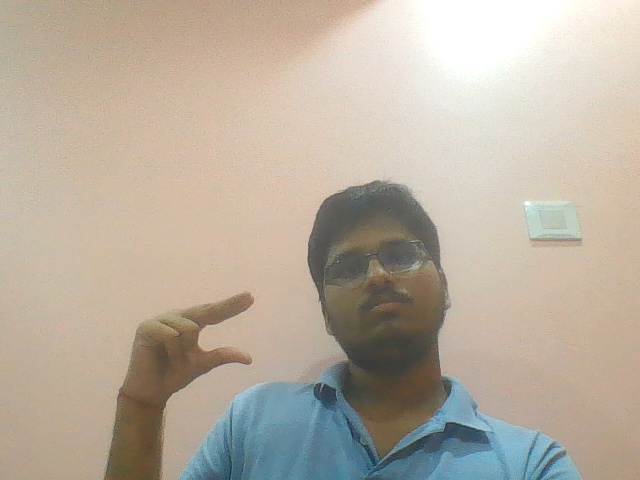no: (108, 288, 269, 382)
